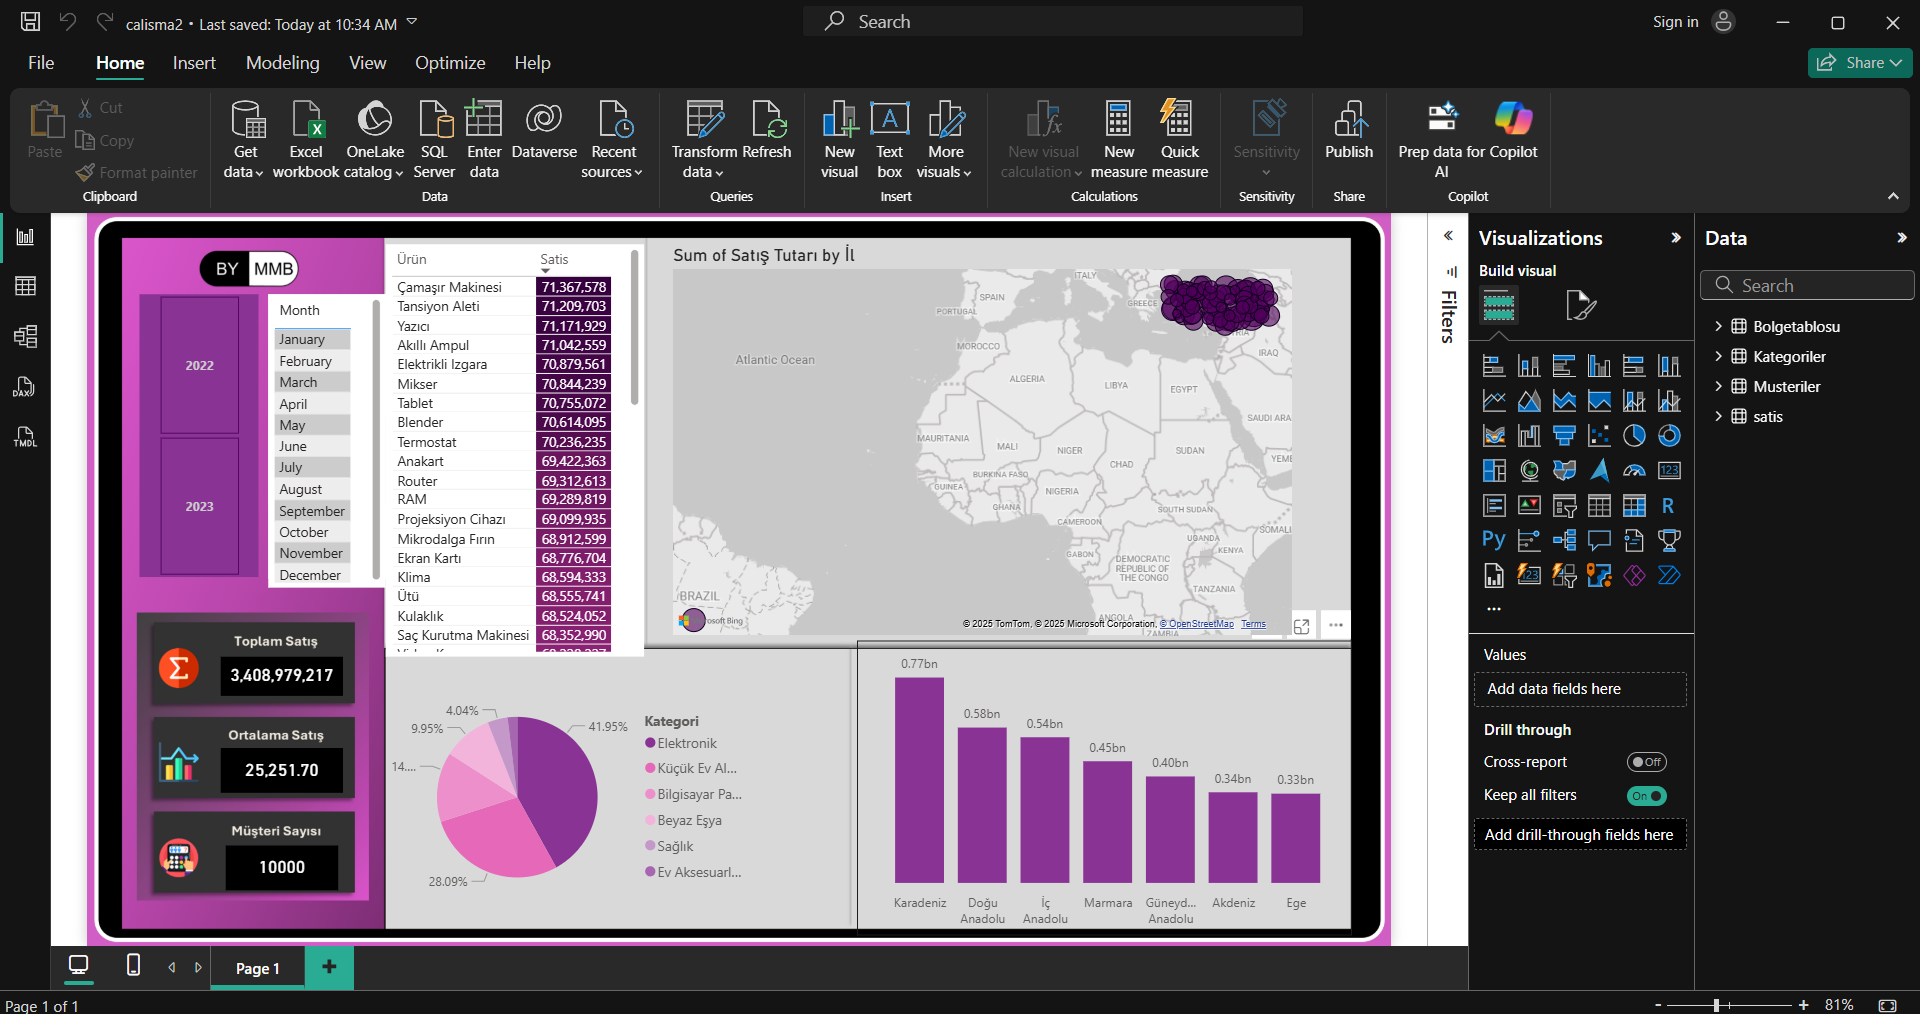

The page's visual inventory and layout, read from the dashboard file:
{"tool":"powerbi","page":{"name":"Page 1","canvas":[1280,720],"ordinal":0},"visuals":[{"type":"slicer","fields":{"Values":["satis.Tarih.Variation.Date Hierarchy.Year"]},"box":[51.5,79.8,116.6,277.3],"z":0},{"type":"slicer","box":[178.1,80.2,115.8,279],"z":1000},{"type":"tableEx","fields":{"Values":["satis.Tarih.Variation.Date Hierarchy.Month"]},"box":[177.9,79.8,115.3,288.3],"z":2000},{"type":"card","fields":{"Values":["Sum(satis.Satış Tutarı)"]},"box":[131.3,435.6,120.2,38],"z":3000},{"type":"card","fields":{"Values":["Avg(satis.Satış Tutarı)"]},"box":[131.3,525.2,120.2,44.2],"z":4000},{"type":"card","fields":{"Values":["Count(satis.musteri_numarsi)"]},"box":[136.2,620.9,110.4,44.2],"z":5000},{"type":"tableEx","fields":{"Values":["satis.Ürün","Sum(satis.Satış Tutarı)"]},"box":[293.3,30.7,254,404.9],"z":6000},{"type":"pieChart","fields":{"Category":["Kategoriler.Kategori"],"Y":["Sum(satis.Satış Tutarı)"]},"box":[293.3,446.6,365.6,254],"z":7000},{"type":"clusteredColumnChart","fields":{"Category":["Bolgetablosu.Bölge"],"Y":["Sum(satis.Satış Tutarı)"]},"box":[755.7,420.2,485.8,289.2],"z":8000},{"type":"map","fields":{"Category":["satis.İl"],"Size":["Sum(satis.Satış Tutarı)"]},"box":[570.6,30.8,616.9,389.4],"z":9000}]}

Visuals, with their boxes on the page's 1280x720 design canvas (x1, y1, x2, y2). These are canvas units, not pixel positions in the 1920x1014 screenshot, which may show the page scaled, cropped or inside an application window:
slicer - satis.Tarih.Variation.Date Hierarchy.Year: [x1=52, y1=80, x2=168, y2=357]
slicer: [x1=178, y1=80, x2=294, y2=359]
tableEx - satis.Tarih.Variation.Date Hierarchy.Month: [x1=178, y1=80, x2=293, y2=368]
card - Sum(satis.Satış Tutarı): [x1=131, y1=436, x2=252, y2=474]
card - Avg(satis.Satış Tutarı): [x1=131, y1=525, x2=252, y2=569]
card - Count(satis.musteri_numarsi): [x1=136, y1=621, x2=247, y2=665]
tableEx - satis.Ürün x Sum(satis.Satış Tutarı): [x1=293, y1=31, x2=547, y2=436]
pieChart - Kategoriler.Kategori x Sum(satis.Satış Tutarı): [x1=293, y1=447, x2=659, y2=701]
clusteredColumnChart - Bolgetablosu.Bölge x Sum(satis.Satış Tutarı): [x1=756, y1=420, x2=1242, y2=709]
map - satis.İl x Sum(satis.Satış Tutarı): [x1=571, y1=31, x2=1188, y2=420]
